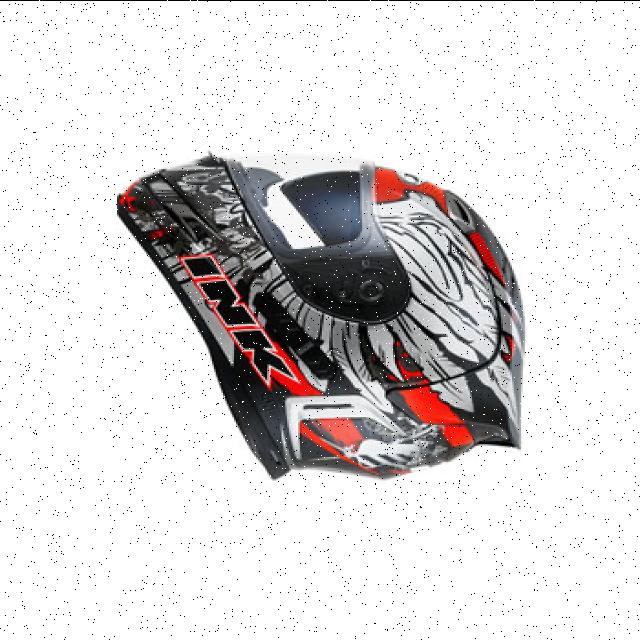Helmet: (119, 155, 520, 478)
